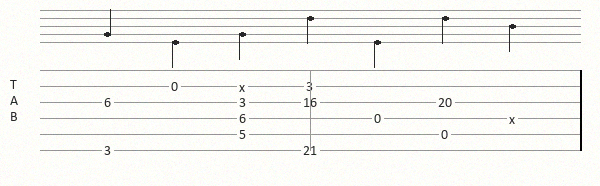0: (171, 80, 182, 93), (374, 112, 385, 125), (441, 128, 452, 141)
16: (303, 96, 321, 109)
20: (438, 96, 456, 109)
21: (303, 144, 321, 157)
3: (104, 144, 115, 157), (239, 96, 250, 109), (306, 80, 317, 93)
5: (239, 128, 250, 141)
6: (104, 96, 115, 109), (239, 112, 250, 125)
x: (239, 81, 249, 92), (509, 113, 519, 124)
